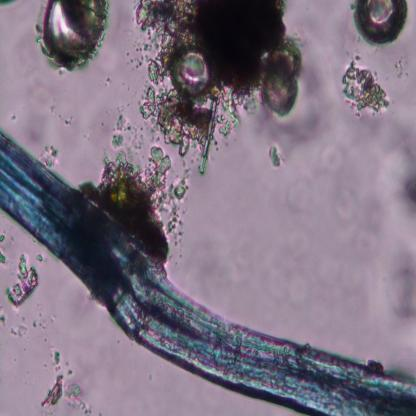Background material: (135, 0, 308, 160), (100, 141, 188, 254), (264, 215, 313, 314), (337, 190, 387, 258), (42, 348, 86, 410), (344, 58, 389, 118), (385, 244, 416, 325), (0, 251, 42, 310), (27, 110, 60, 173), (392, 166, 416, 221), (320, 132, 348, 174), (112, 114, 127, 152), (6, 320, 33, 339), (271, 144, 284, 173)
Cotton: (0, 131, 416, 414)
Diatom: (36, 1, 110, 70), (352, 0, 407, 46), (173, 43, 211, 94)
